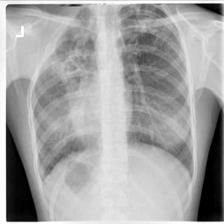tuberculosis: (30, 5, 198, 195)
